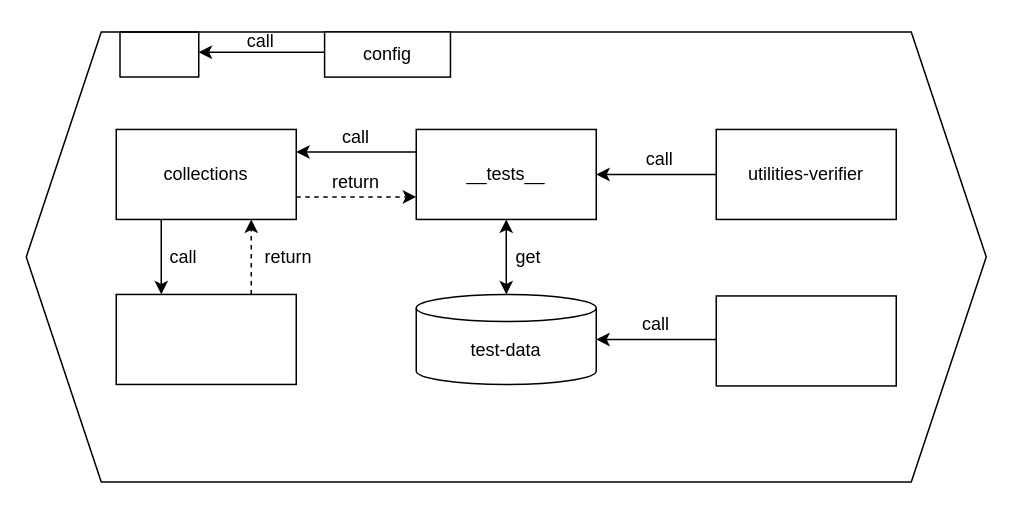
The diagram is 1013 pixels wide and 509 high, and some of its shapes have lost their labels. Each missing label, with the centre of its shape:
callers: (205,338)
envi: (158,53)
utilities-helper: (805,340)
